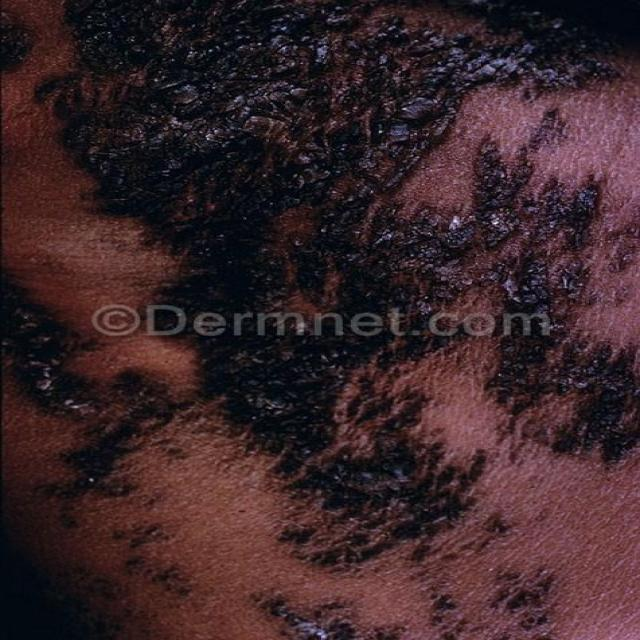Eczema: (0, 0, 626, 581)
